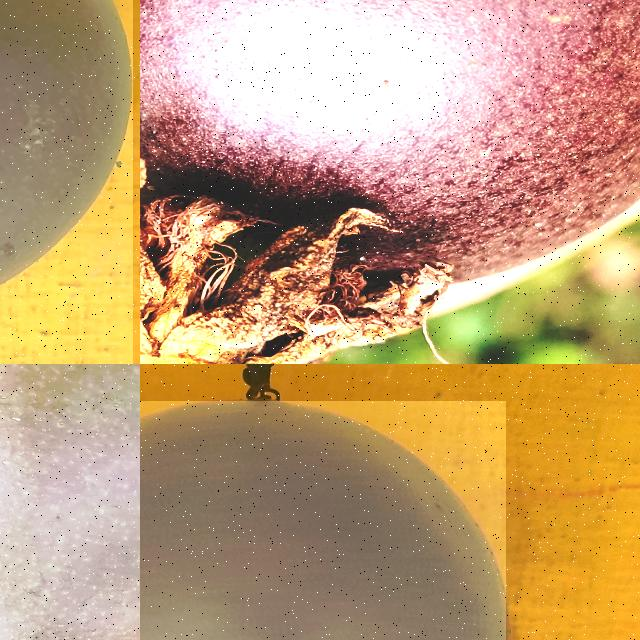Estado-2: (0, 364, 140, 640)
Estado-5: (140, 401, 506, 640)
